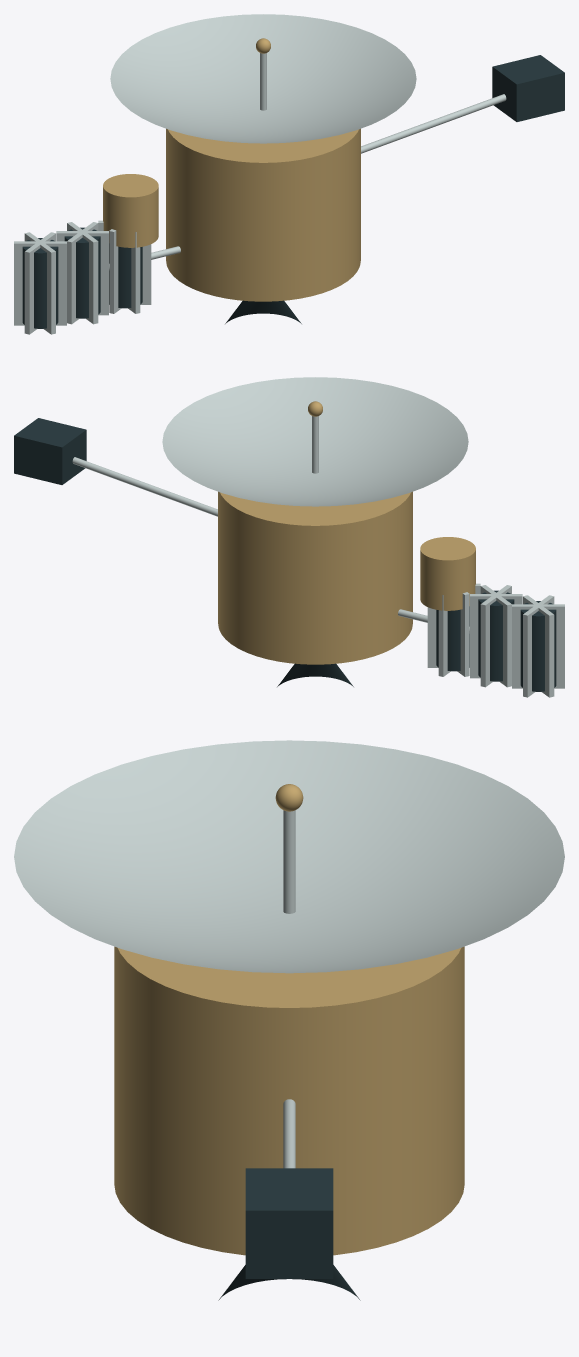
The model's file is voyager-1.glb.
3 views of the same model, one above another, from view 1: azimuth 30°, elevation 25°; view 2: azimuth 150°, elevation 25°; view 3: azimuth 270°, elevation 25° (orthographic). The views are drawn at different scales.
Parts seen in each view (by area): view 1: antenna, body, service, instruments, propulsion; view 2: antenna, body, service, instruments, propulsion; view 3: antenna, body, instruments, propulsion.
Boxes of the visible parts, x1=… form: antenna: x1=110, y1=14, x2=416, y2=143; body: x1=166, y1=128, x2=360, y2=301; service: x1=14, y1=220, x2=180, y2=334; instruments: x1=103, y1=55, x2=564, y2=247; propulsion: x1=225, y1=300, x2=301, y2=323; antenna: x1=162, y1=377, x2=468, y2=506; body: x1=218, y1=491, x2=412, y2=664; service: x1=398, y1=583, x2=564, y2=697; instruments: x1=14, y1=418, x2=475, y2=610; propulsion: x1=277, y1=663, x2=353, y2=686; antenna: x1=14, y1=740, x2=564, y2=973; body: x1=114, y1=946, x2=464, y2=1255; instruments: x1=245, y1=1099, x2=333, y2=1278; propulsion: x1=218, y1=1265, x2=360, y2=1300.
Bounding box in the file's own units: 4.42 × 2.31 × 2.2.
